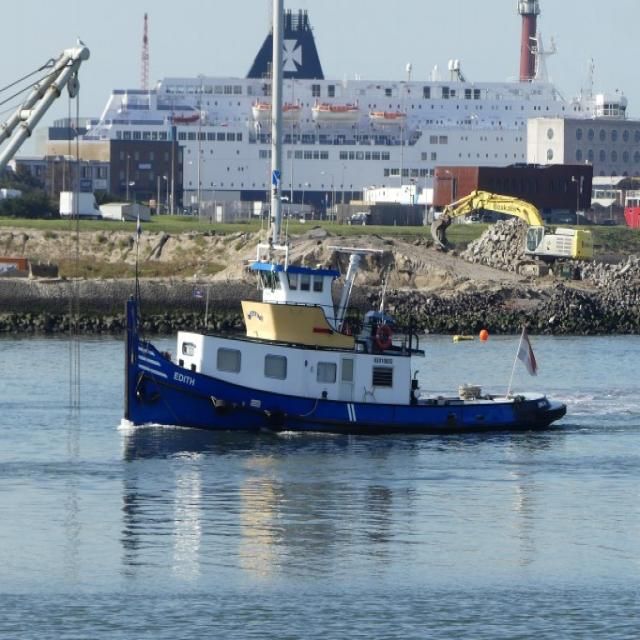tugboat: (117, 209, 571, 458)
